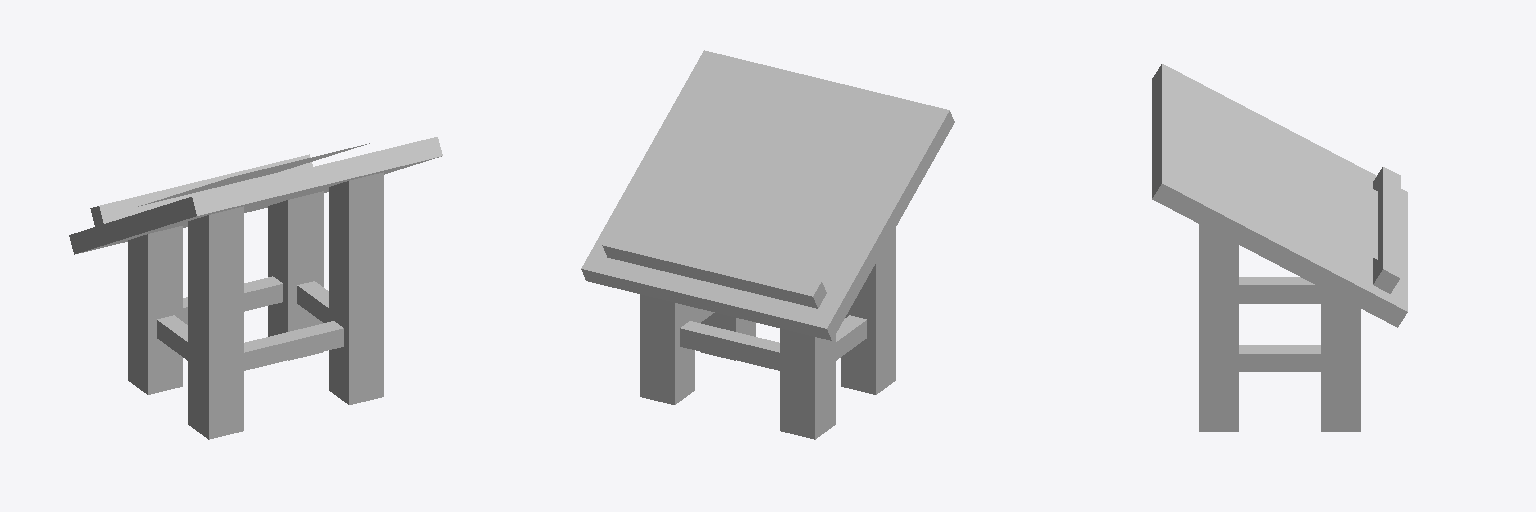
The model's file is delegation_station.obj.
The picture shows the model from 3 angles: view 1: azimuth 30°, elevation 25°; view 2: azimuth 150°, elevation 25°; view 3: azimuth 270°, elevation 25°; orthographic projection.
Parts seen in each view (by area): view 1: DELEGATION_STATION_Cube.001; view 2: DELEGATION_STATION_Cube.001; view 3: DELEGATION_STATION_Cube.001.
Boxes of the visible parts, <box> form: DELEGATION_STATION_Cube.001: <box>69,137,442,439</box>; DELEGATION_STATION_Cube.001: <box>581,50,954,439</box>; DELEGATION_STATION_Cube.001: <box>1152,64,1407,431</box>.
Bounding box in the file's own units: 0.875 × 0.9021 × 0.789.